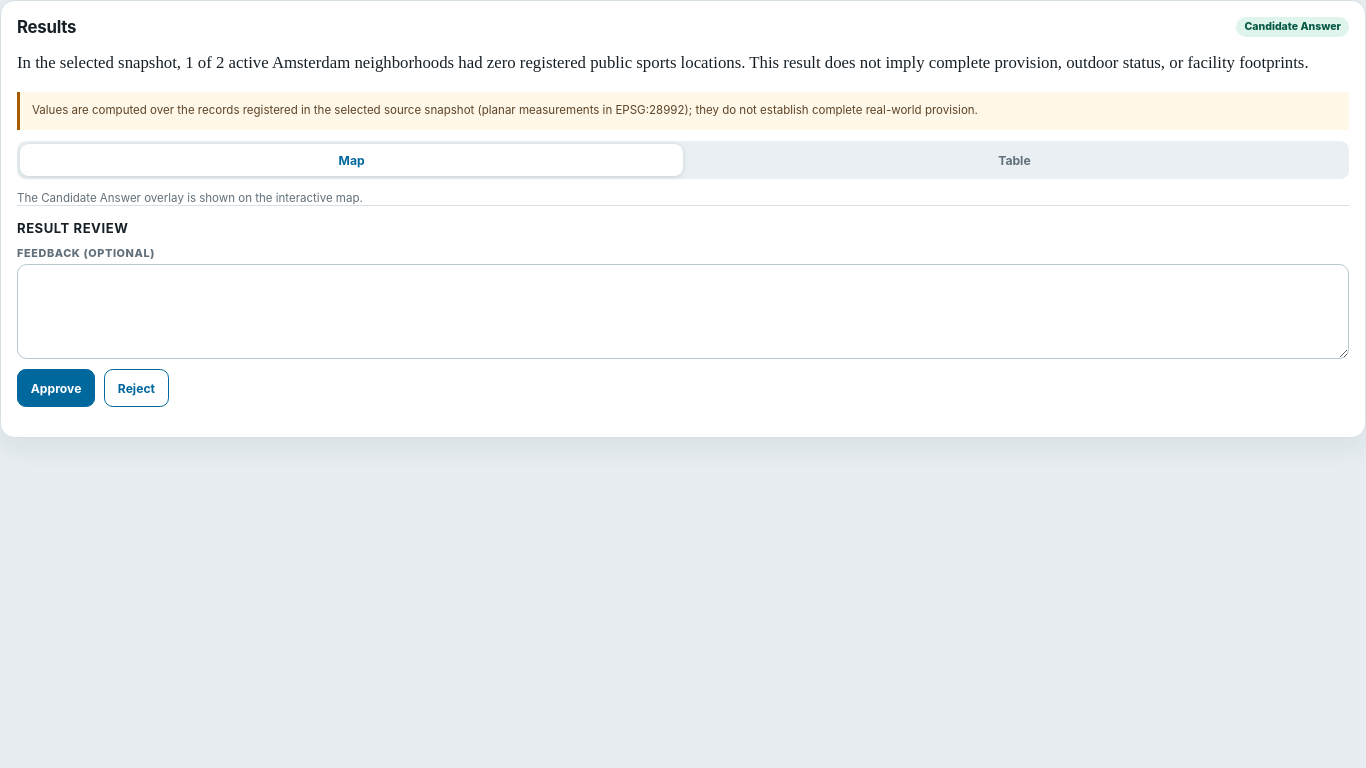
Test case: Candidate Answer review › keeps the exact table behind the Table toggle and exposes only API decision verbs
Expected: the text "selected source snapshot" is shown, [32,104,616,118]
Expected: the button "Approve" is enabled, [17,369,95,407]
Click the button "Table" at (1014, 160), box [683,144,1346,176]
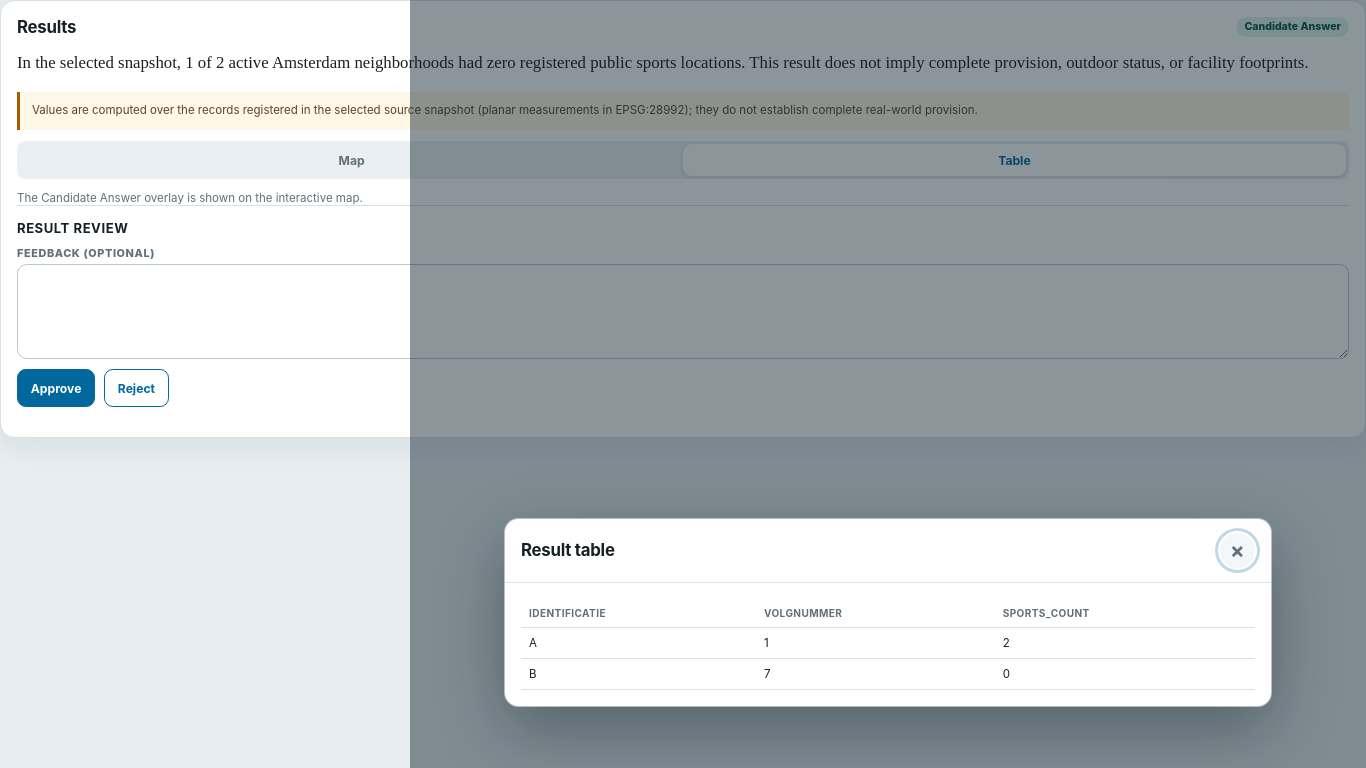
Now the element named "exact result table" is shown, box [521,599,1255,690]
Now the cell "B" is shown, box [521,658,756,689]
Now the cell "0" is shown, box [995,658,1255,689]
Press Escape
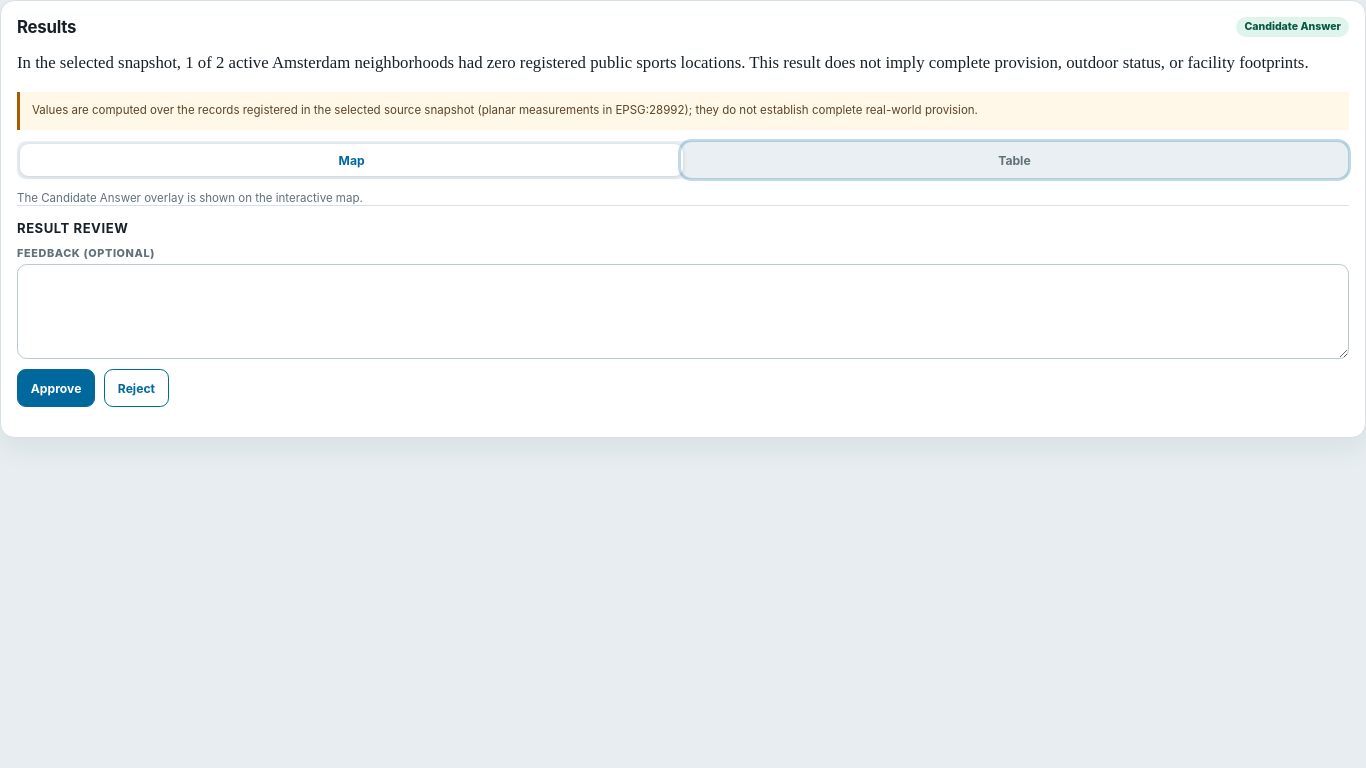
Now the heading "Result table" is gone
Click the button "Table" at (1014, 160), box [683,144,1346,176]
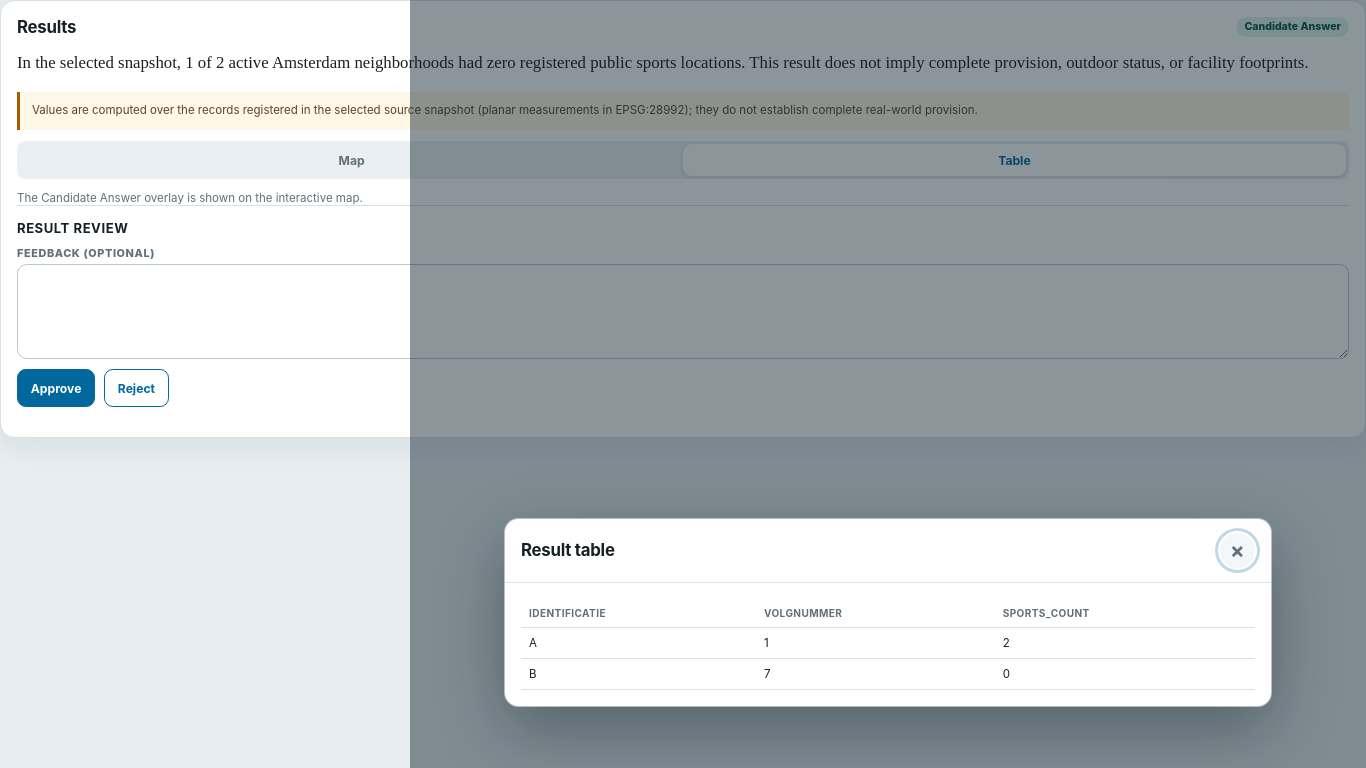
Click the button named "Close Result table" at (1237, 550), box [1220,533,1255,568]
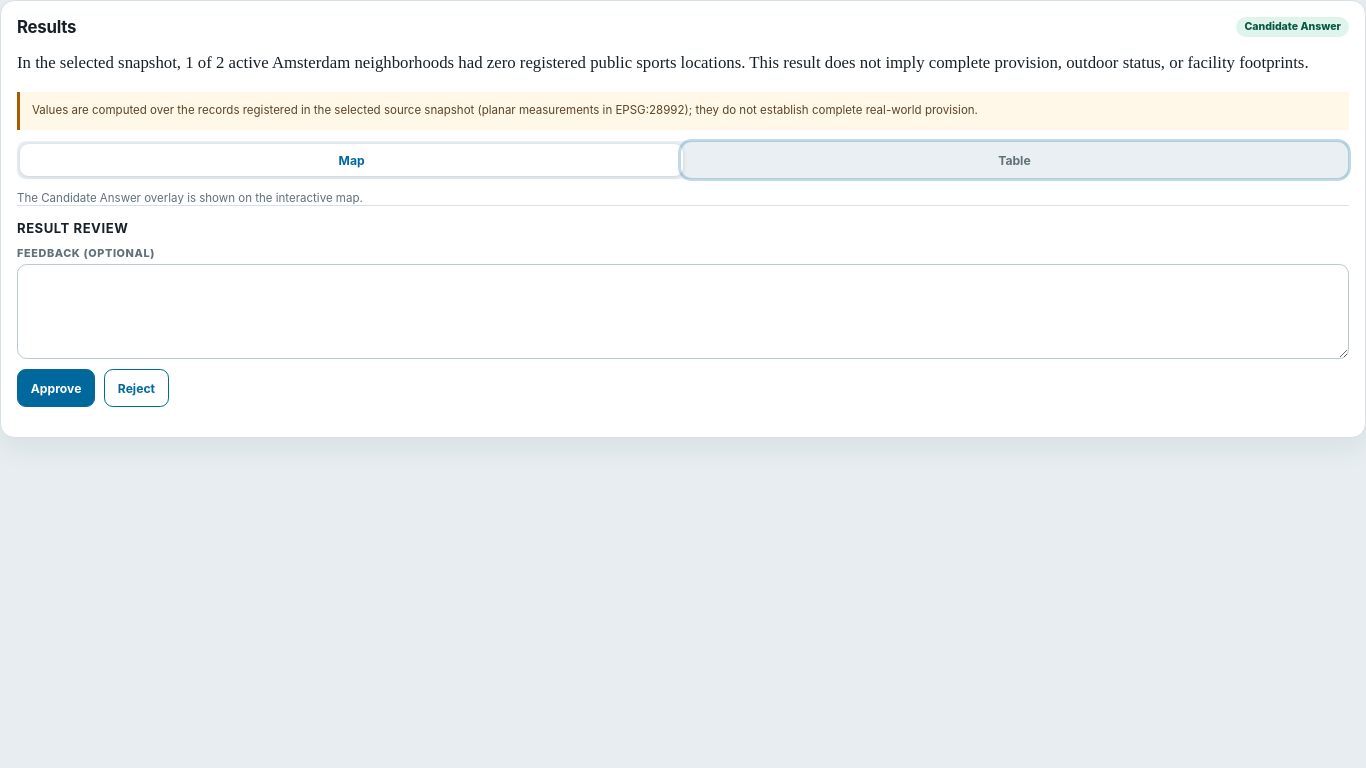
Now the heading "Result table" is gone
Click the button "Table" at (1014, 160), box [683,144,1346,176]
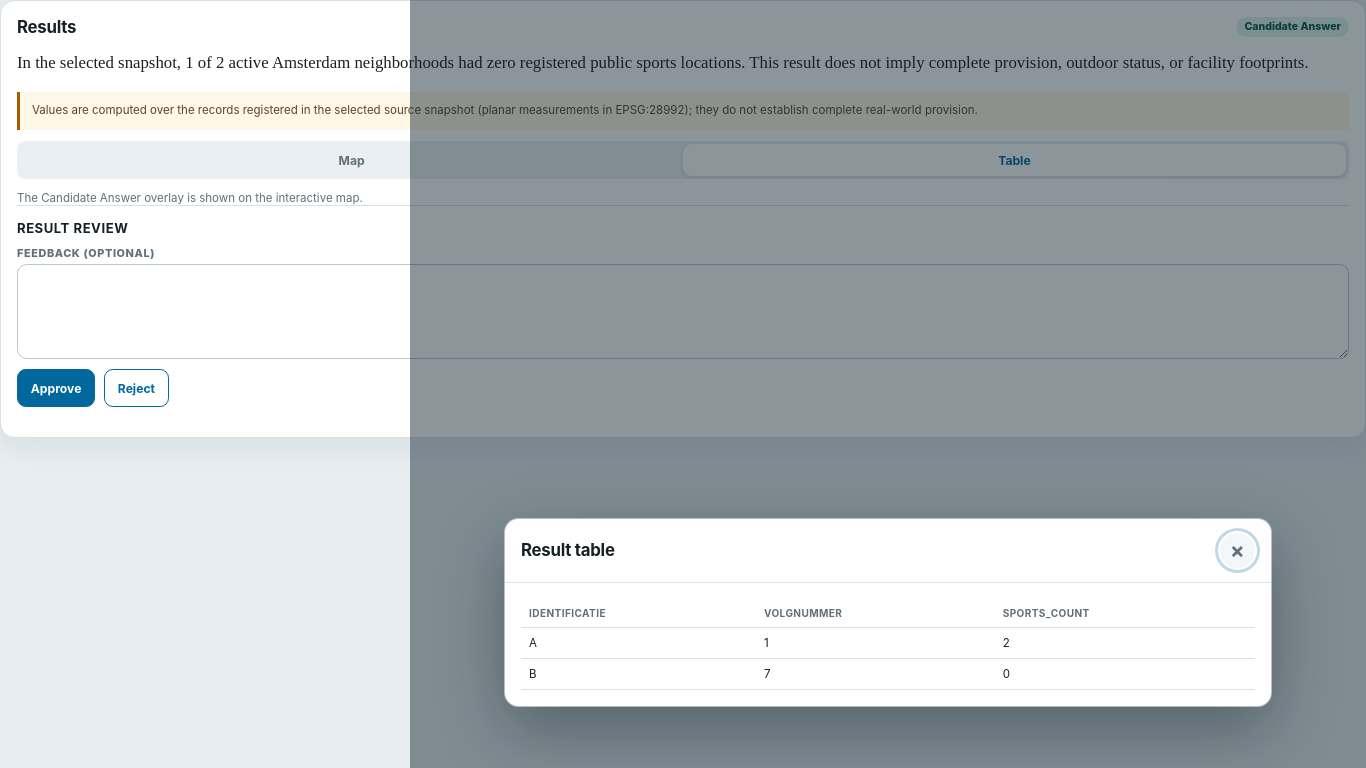
Press the mouse on the element that starts with "Result table" at (888, 384), box [410,0,1365,767]
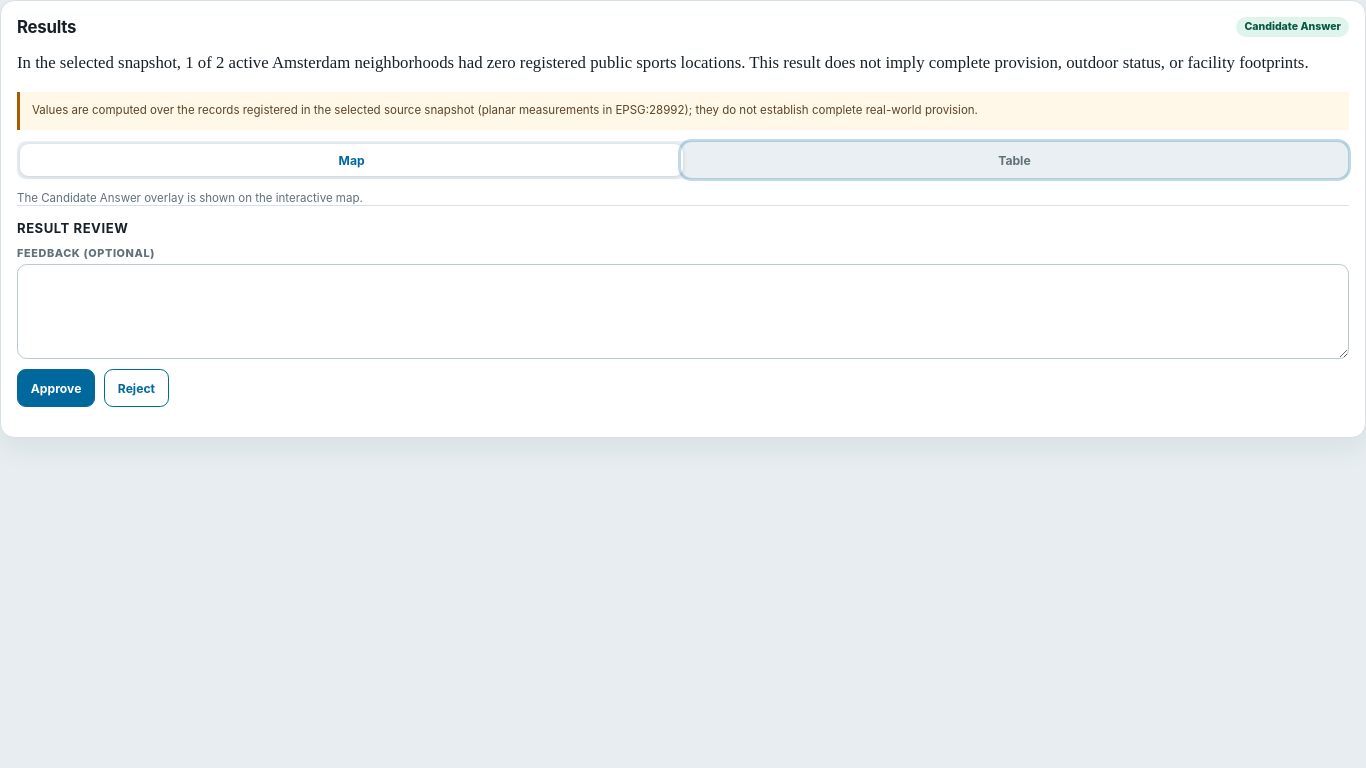
Now the heading "Result table" is gone
